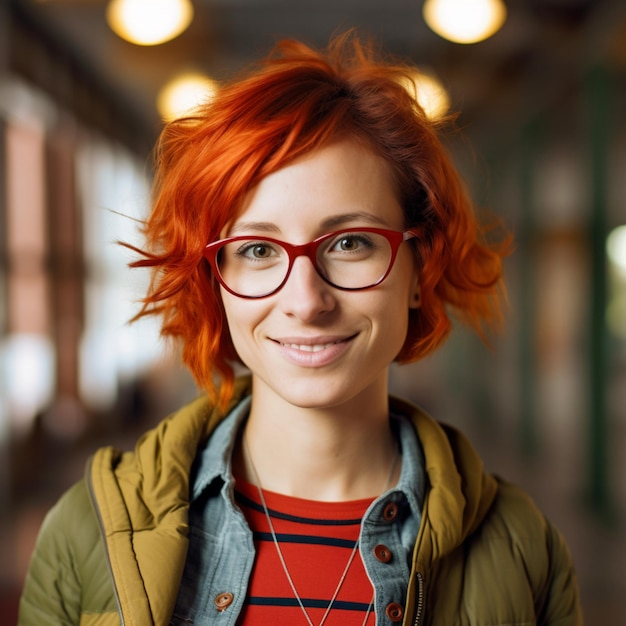teen: (155, 65, 468, 426)
